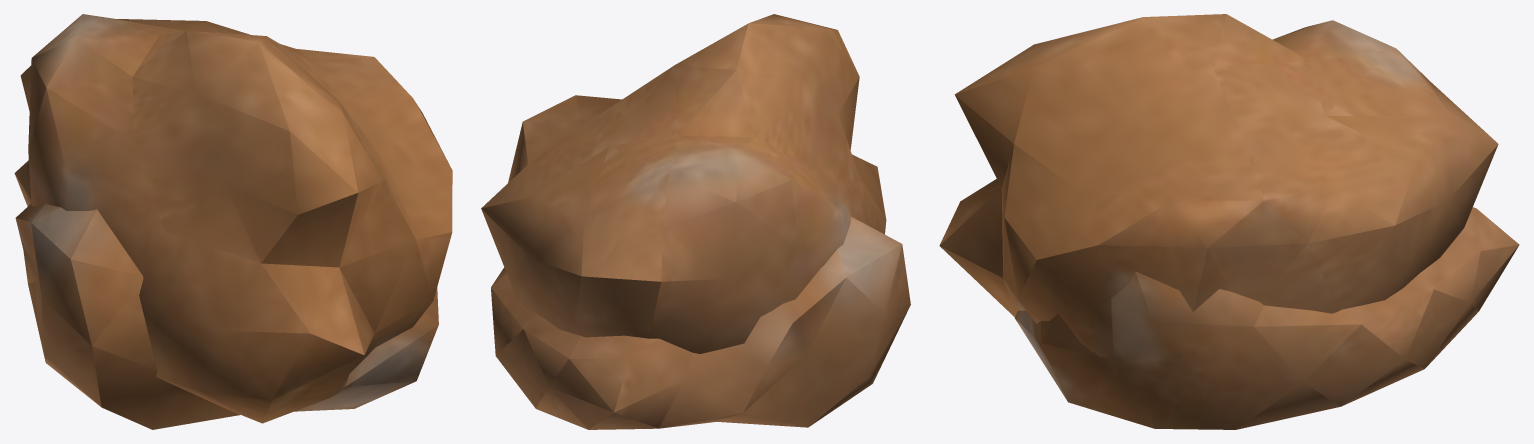
File: terron_1_250.glb
The picture shows the model from 3 angles, left to right: view 1: azimuth 30°, elevation 25°; view 2: azimuth 150°, elevation 25°; view 3: azimuth 270°, elevation 25°; orthographic projection. The views are drawn at different scales.
Parts seen in each view (by area): view 1: terron_1_malla; view 2: terron_1_malla; view 3: terron_1_malla.
Boxes of the visible parts, left/top/right/bottom form: terron_1_malla: left=14, top=14, right=452, bottom=429; terron_1_malla: left=481, top=14, right=910, bottom=429; terron_1_malla: left=939, top=14, right=1519, bottom=429.
Size of the model in its own units: 0.1326 by 0.1252 by 0.1815.
Materials: 1 (1 with a texture image).
